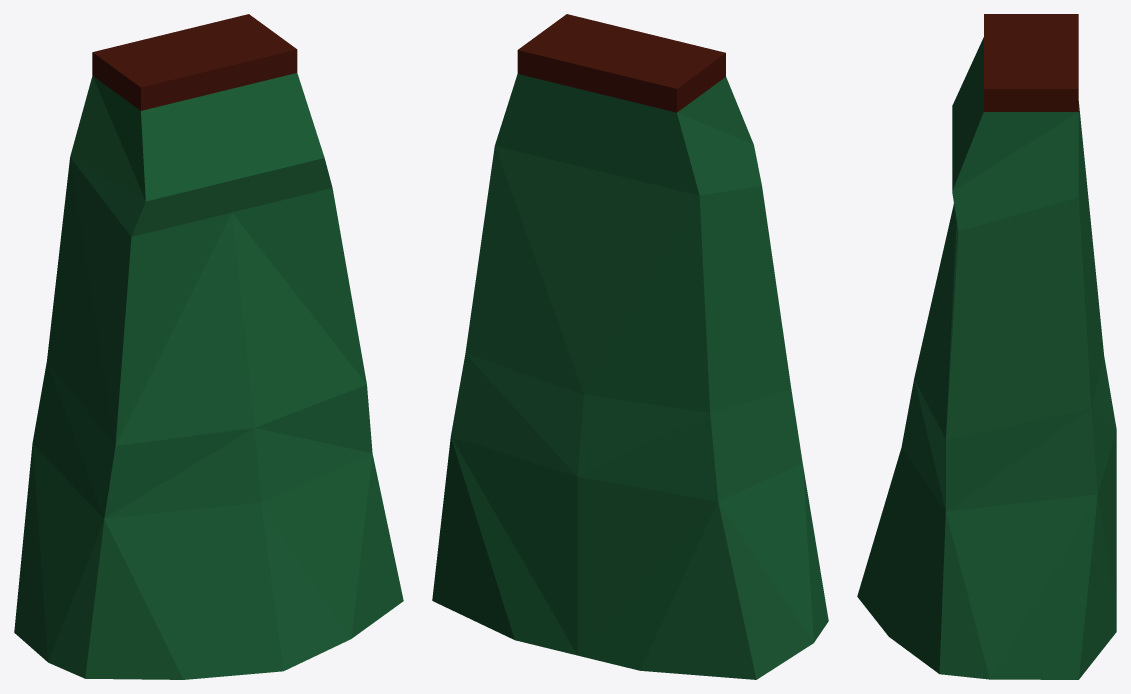
Rendered from player_female_legs_73_0.obj.
The picture shows the model from 3 angles, left to right: view 1: azimuth 30°, elevation 25°; view 2: azimuth 150°, elevation 25°; view 3: azimuth 270°, elevation 25°; orthographic projection. The views are drawn at different scales.
Bounding box in the file's own units: 0.4766 × 0.75 × 0.3203.
